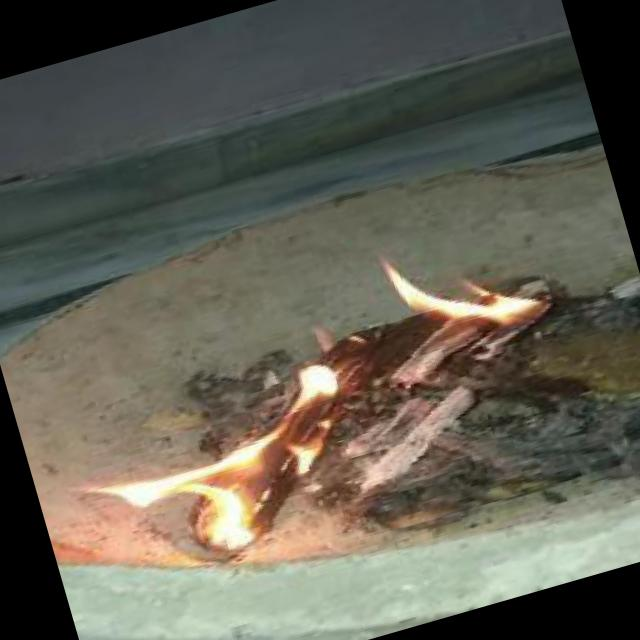fire: (54, 349, 377, 587), (353, 210, 565, 369)
